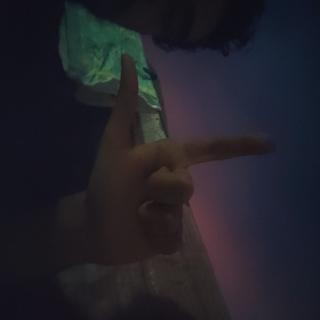LAAM: (37, 55, 210, 320)
